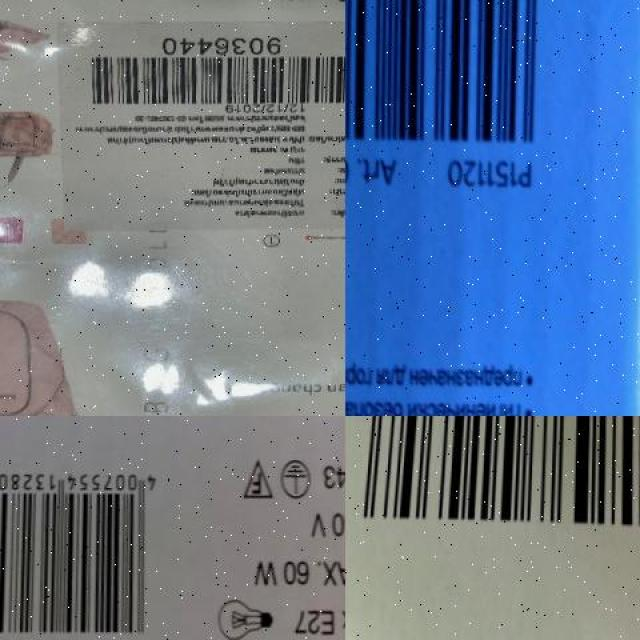Barcode: (345, 416, 640, 557), (345, 0, 563, 152), (0, 456, 167, 640), (74, 32, 346, 109)
